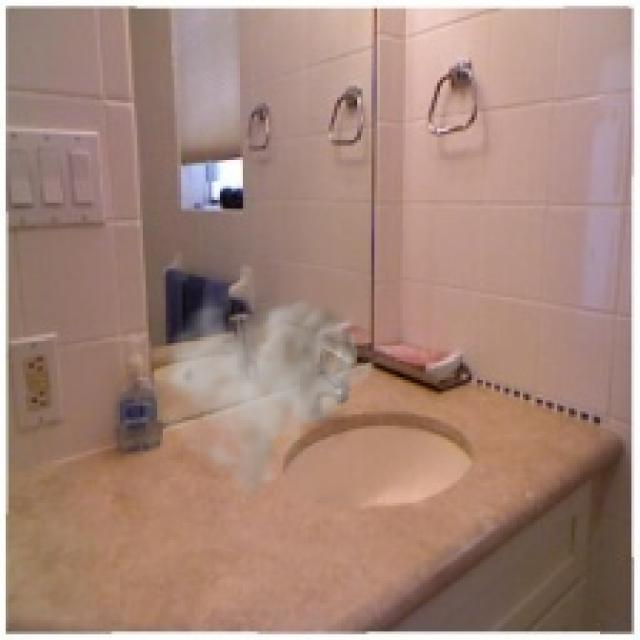Smoke: (154, 274, 377, 509)
